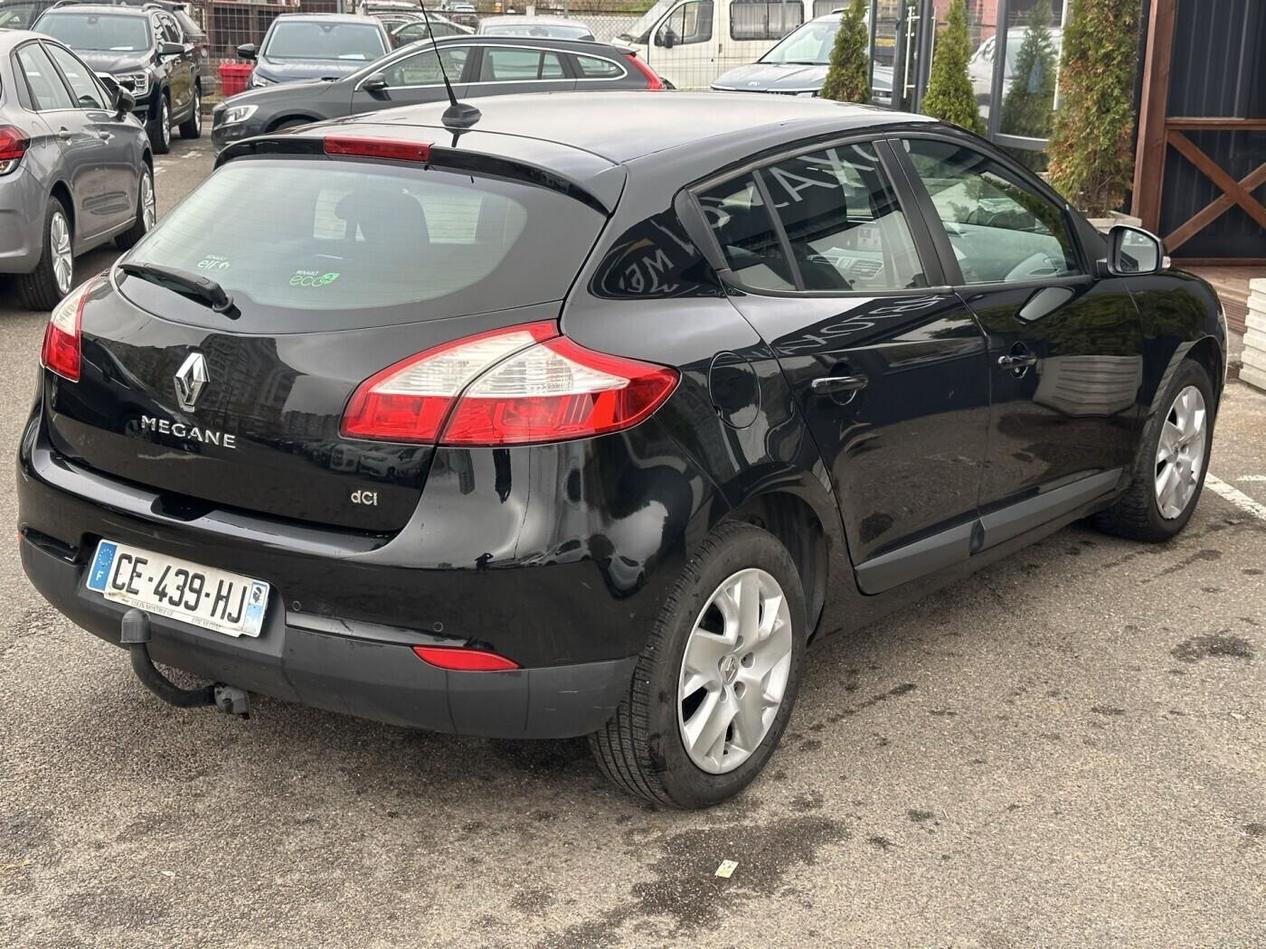Megane_2012-2014: (17, 90, 1230, 788)
